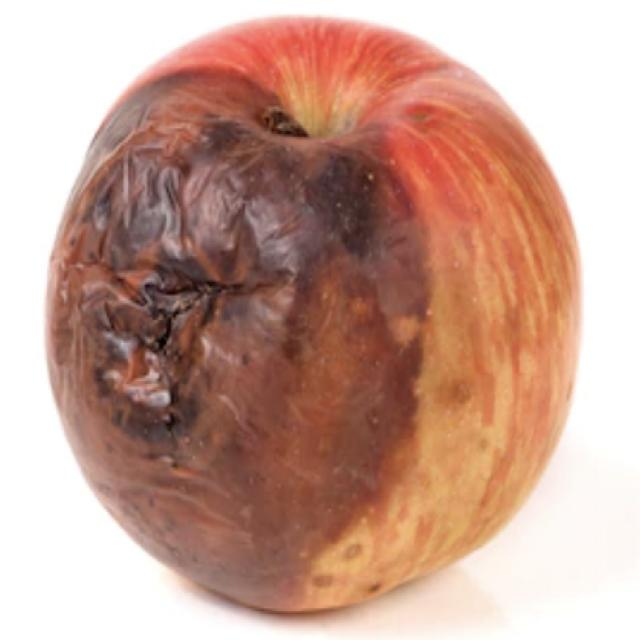rotten_apple: (52, 14, 580, 618)
